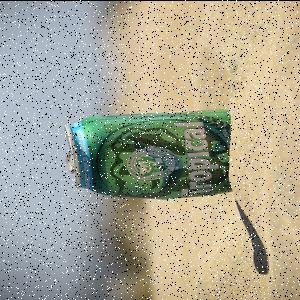Can: (63, 109, 231, 201)
